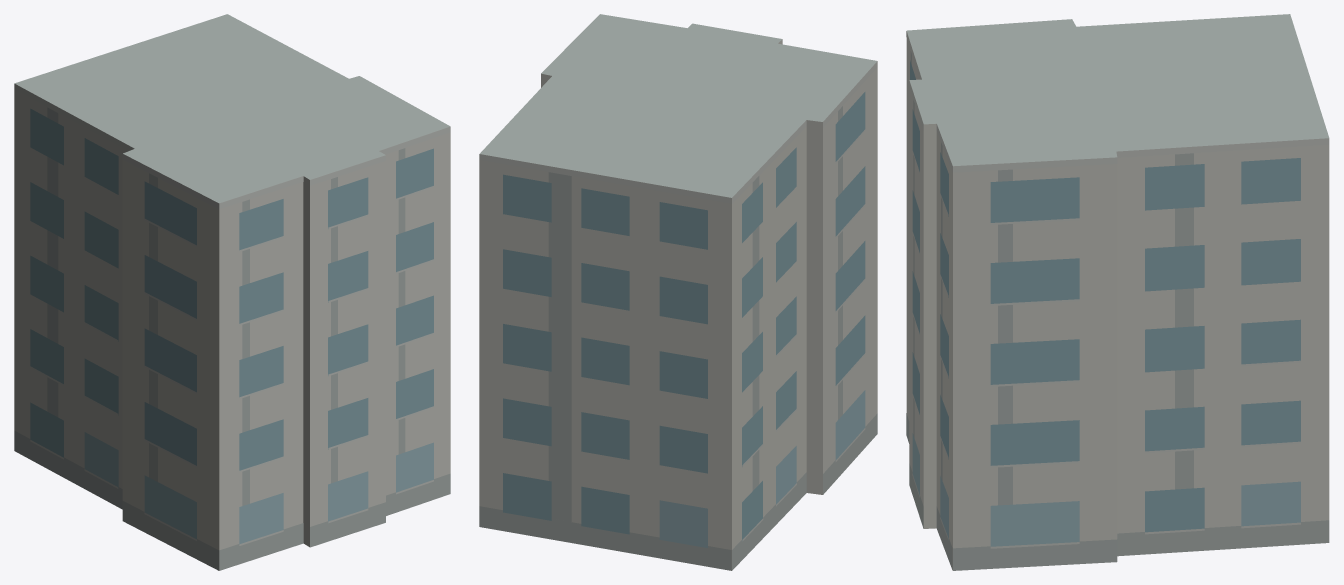
Rendered from survey-upis-32892264.glb.
3 views of the same model, side by side, from view 1: azimuth 30°, elevation 25°; view 2: azimuth 150°, elevation 25°; view 3: azimuth 270°, elevation 25° (orthographic). The views are drawn at different scales.
Visible parts, largest first — view 1: survey-upis-32892264.tmp; view 2: survey-upis-32892264.tmp; view 3: survey-upis-32892264.tmp.
Boxes of the visible parts, bbox=[...] form: survey-upis-32892264.tmp: bbox=[14, 14, 450, 570]; survey-upis-32892264.tmp: bbox=[479, 14, 877, 570]; survey-upis-32892264.tmp: bbox=[906, 14, 1329, 570].
Bounding box in the file's own units: 12.11 × 15 × 14.22.
